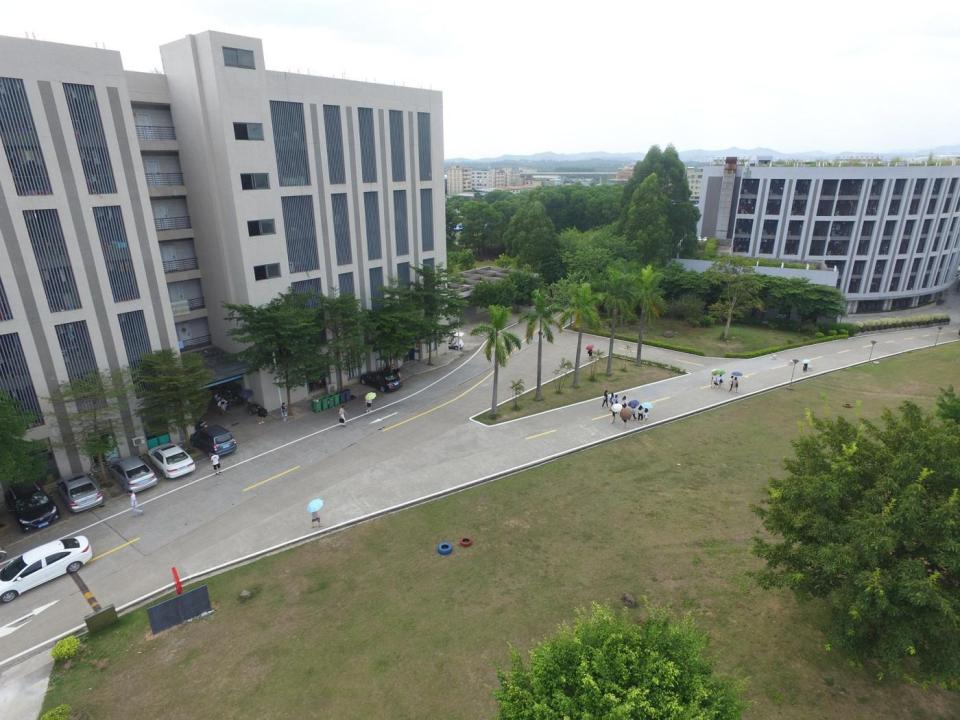car: (0, 535, 93, 603), (4, 476, 60, 532), (55, 472, 103, 514), (108, 455, 158, 493), (146, 442, 195, 480), (360, 369, 403, 393)
van: (190, 424, 237, 458)
